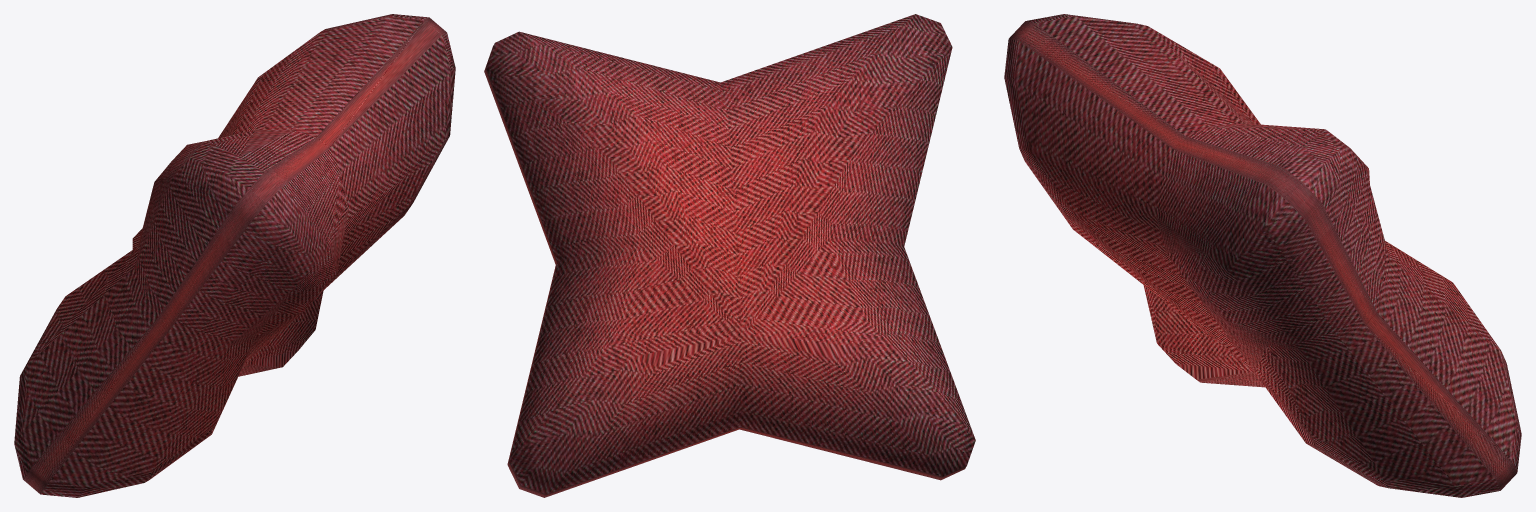
The model's file is Sofá - almofada 2.fbx.
The picture shows the model from 3 angles, left to right: view 1: azimuth 30°, elevation 25°; view 2: azimuth 150°, elevation 25°; view 3: azimuth 270°, elevation 25°; orthographic projection. The views are drawn at different scales.
Parts seen in each view (by area): view 1: Cube.048; view 2: Cube.048; view 3: Cube.048.
Boxes of the visible parts, x1,y1,x2,y2 form: Cube.048: [14, 14, 455, 497]; Cube.048: [484, 14, 975, 497]; Cube.048: [1004, 14, 1521, 497].
Bounding box in the file's own units: 156 × 122 × 146.
